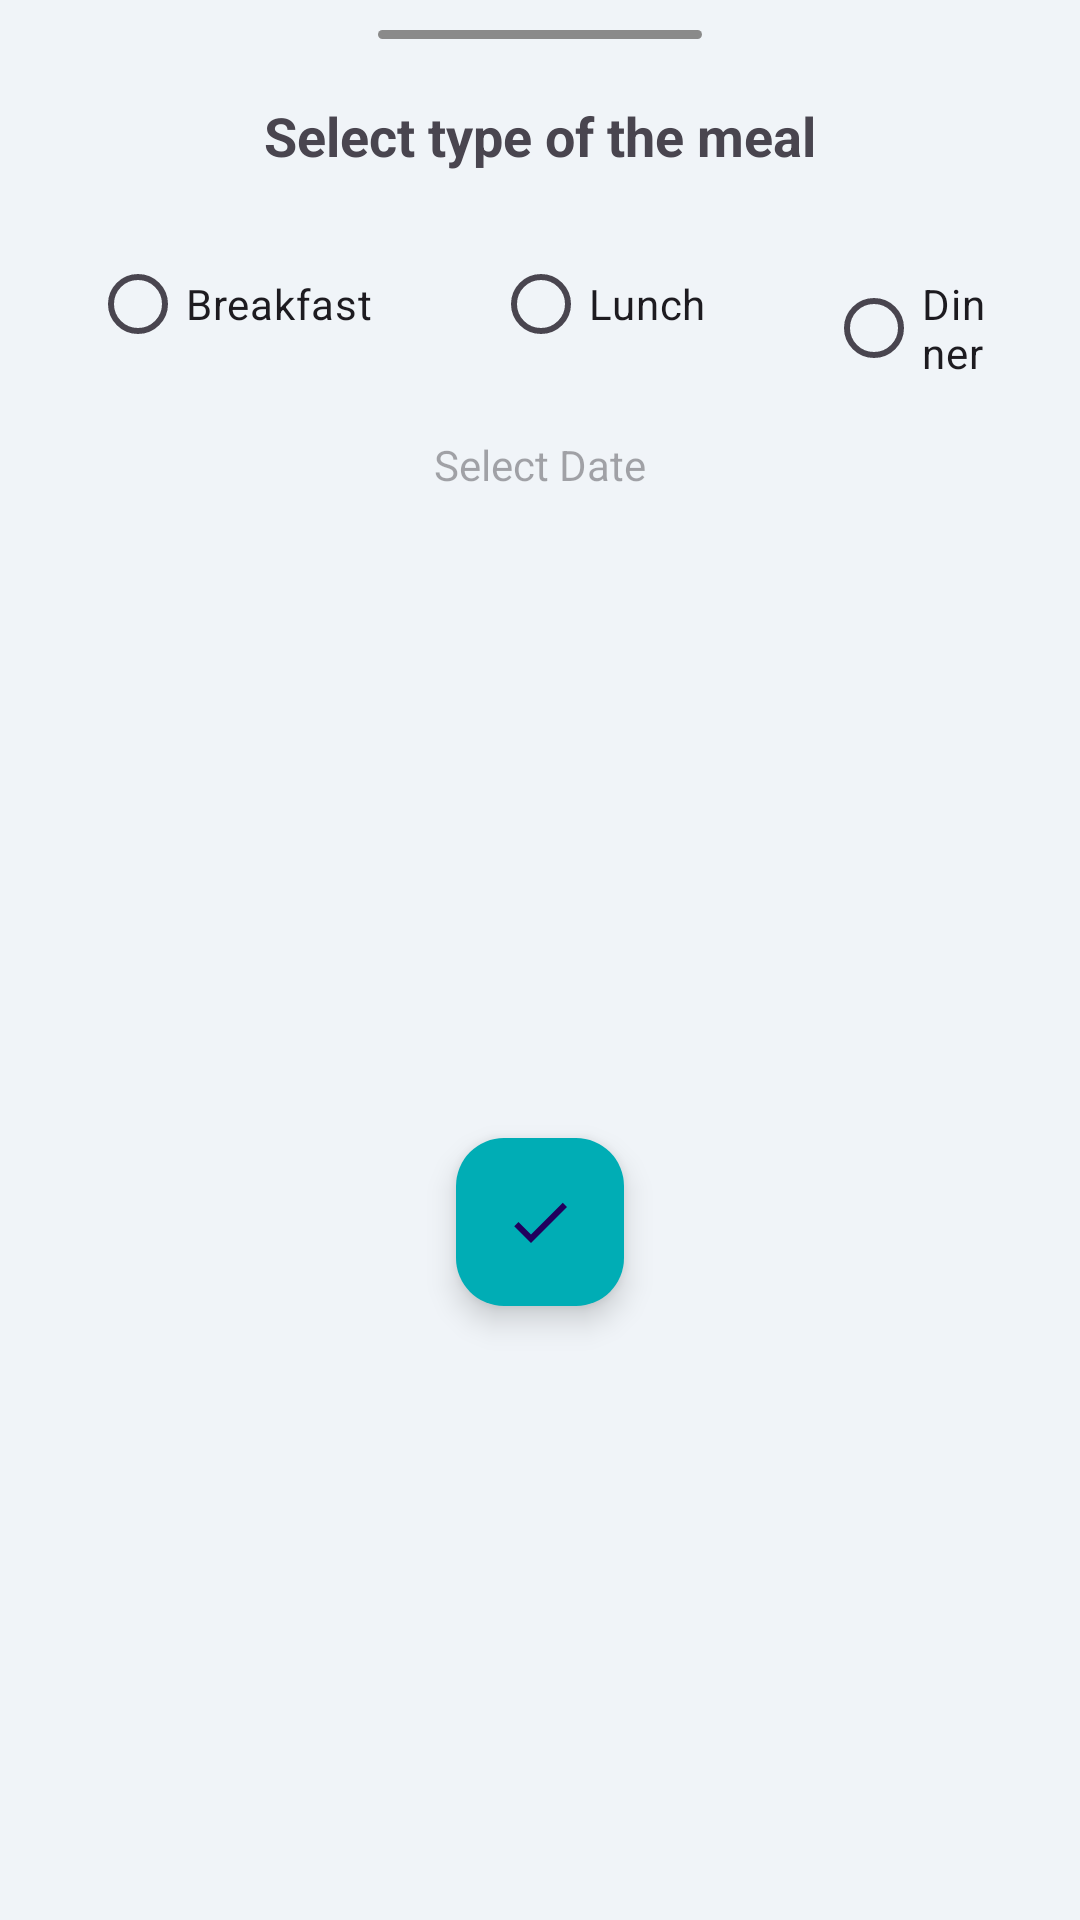

Point at icon controls on the screen. Image size 1080px x 1920px, points as (x,y).
check: (540,1222)
